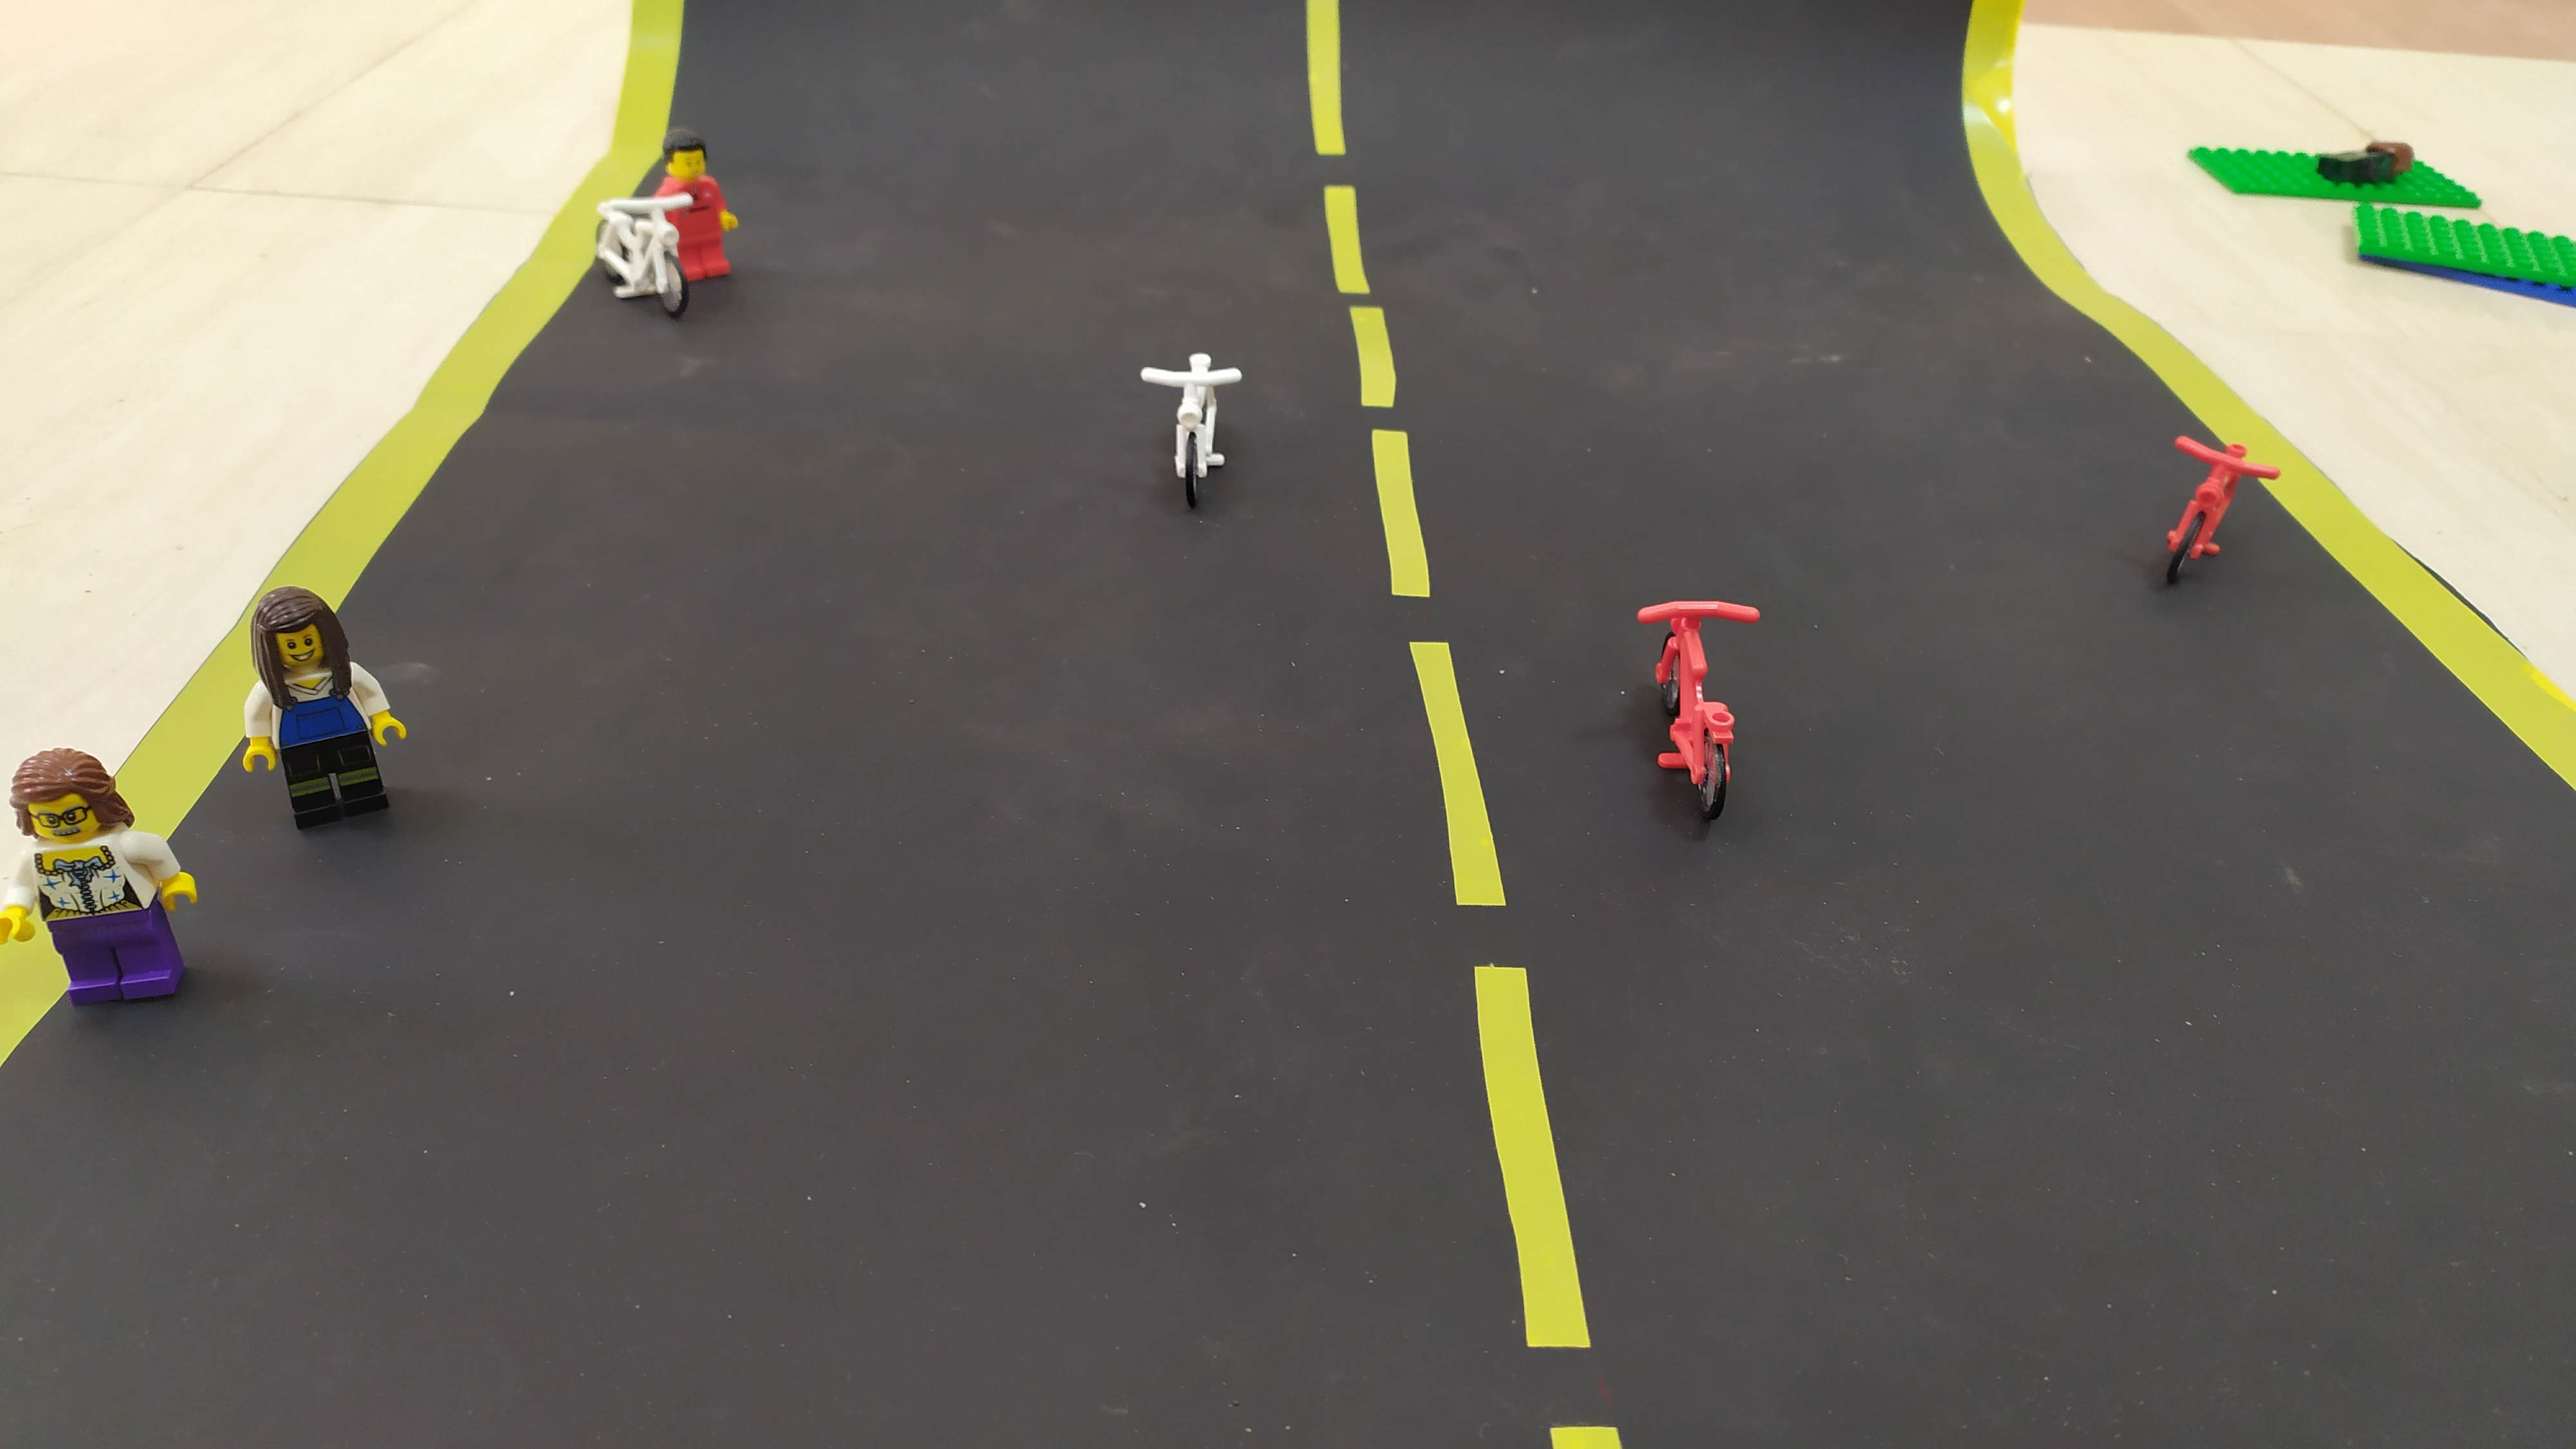Person: (209, 596, 460, 840), (10, 763, 203, 995), (634, 138, 744, 293)
